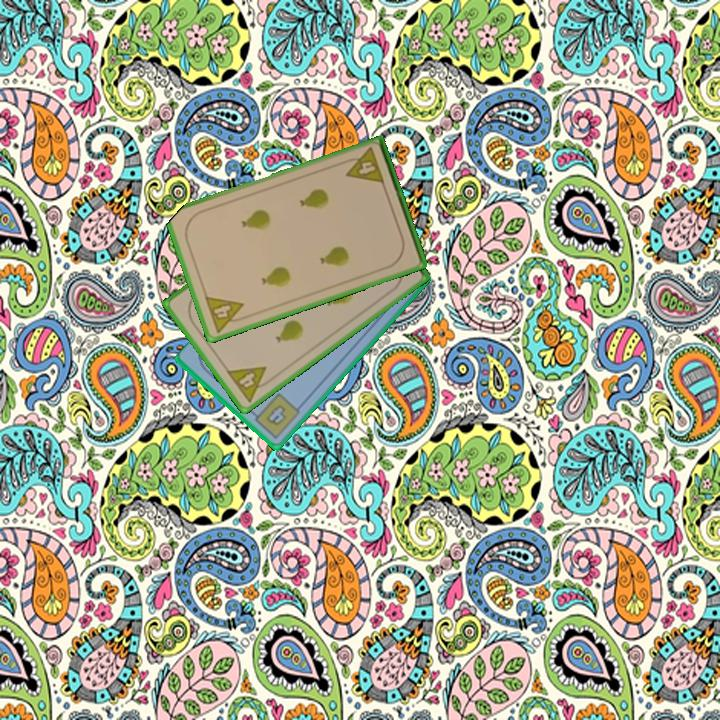4b: (247, 390, 303, 442)
4p: (223, 363, 277, 405), (201, 292, 251, 335), (339, 144, 387, 187)
